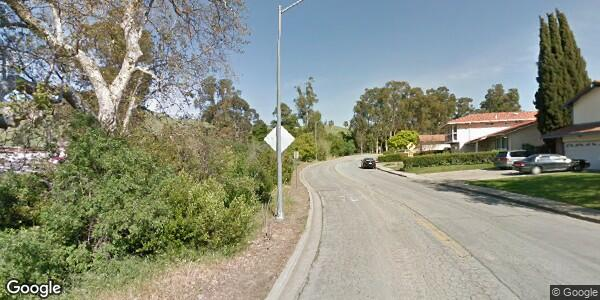Steel_Pole: (264, 1, 305, 223)
